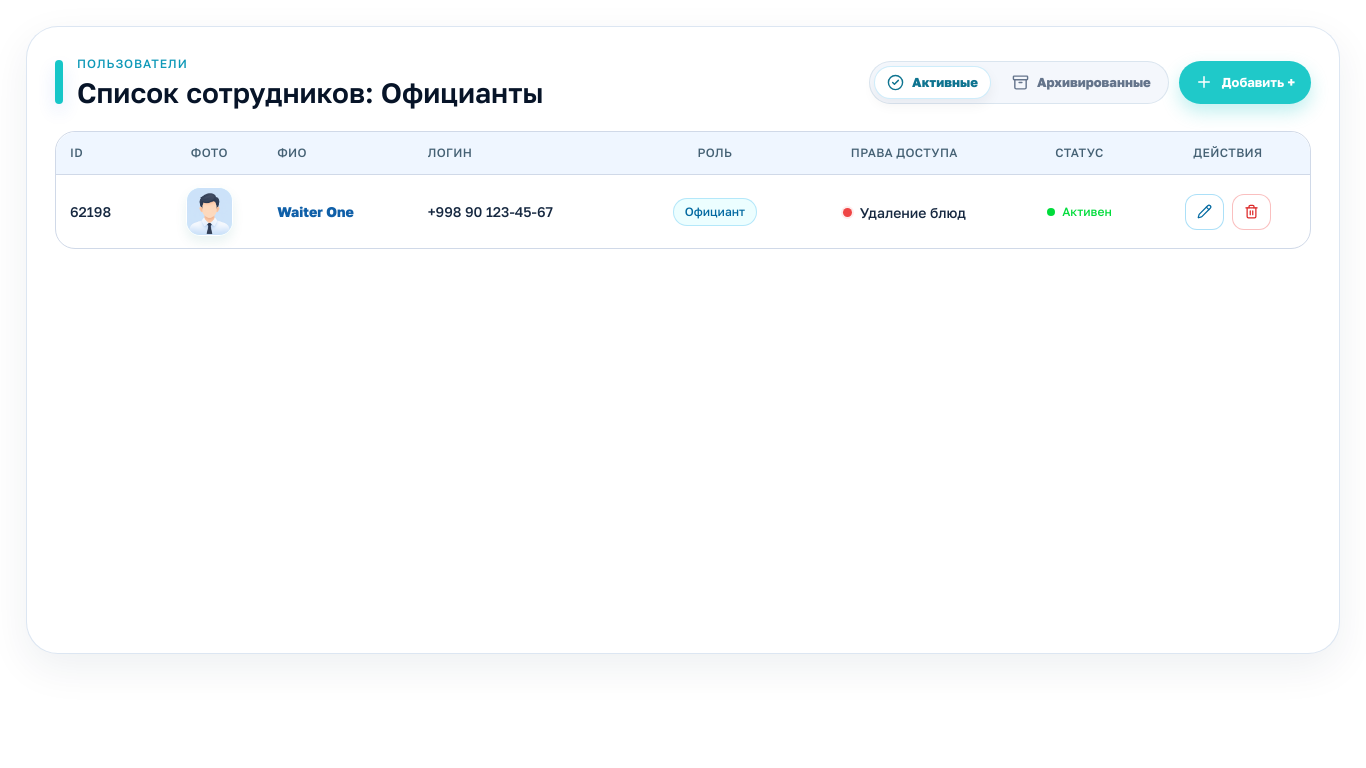
Test: waiter page visual contract (/users/waiter) — WAITER-01 › edit drawer uses Новый пароль + waiter titles, no Email
expect the text "Waiter One" is shown: met, box [263,174,414,248]
Click the button titled "Edit" at (1204, 212), box [1185,194,1224,230]
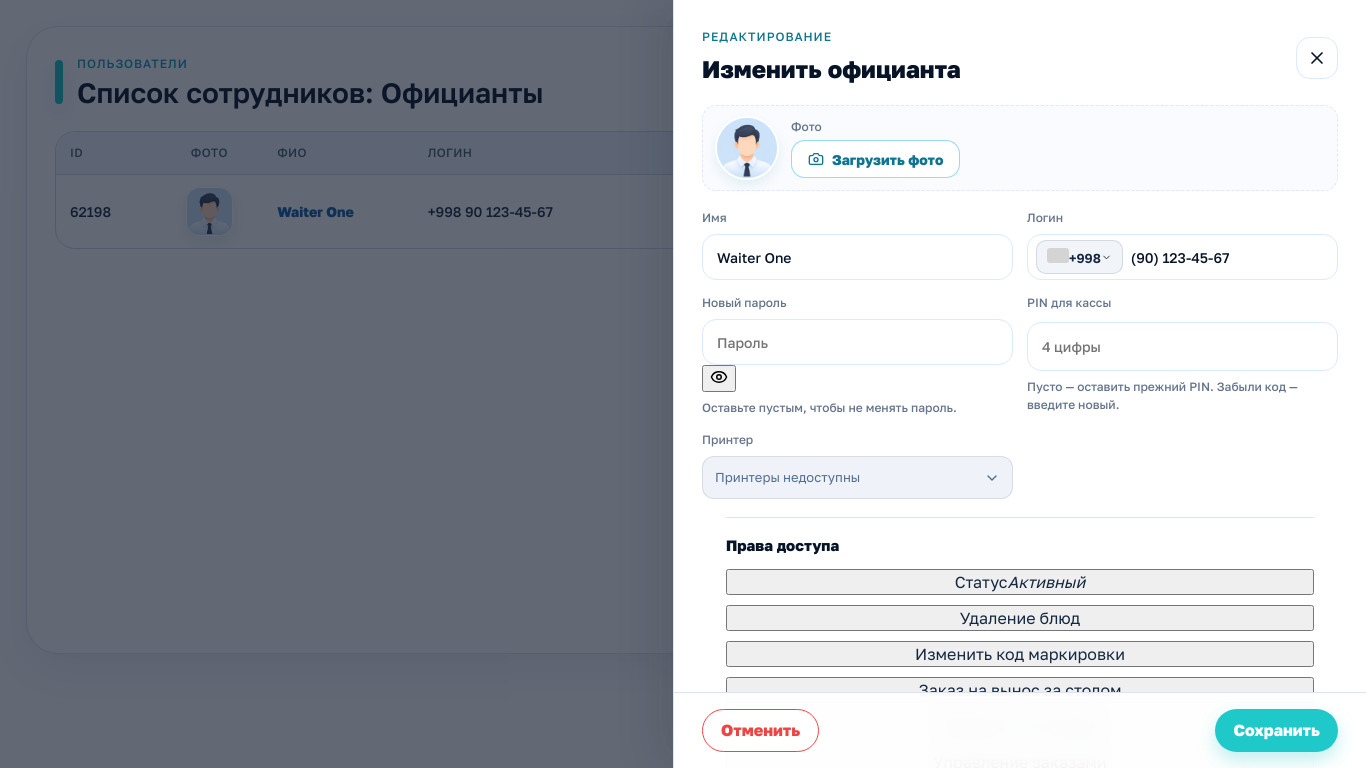
expect the heading "Изменить официанта" is shown: met, box [702,51,961,87]
expect the text "Новый пароль" is shown: met, box [702,295,786,310]
